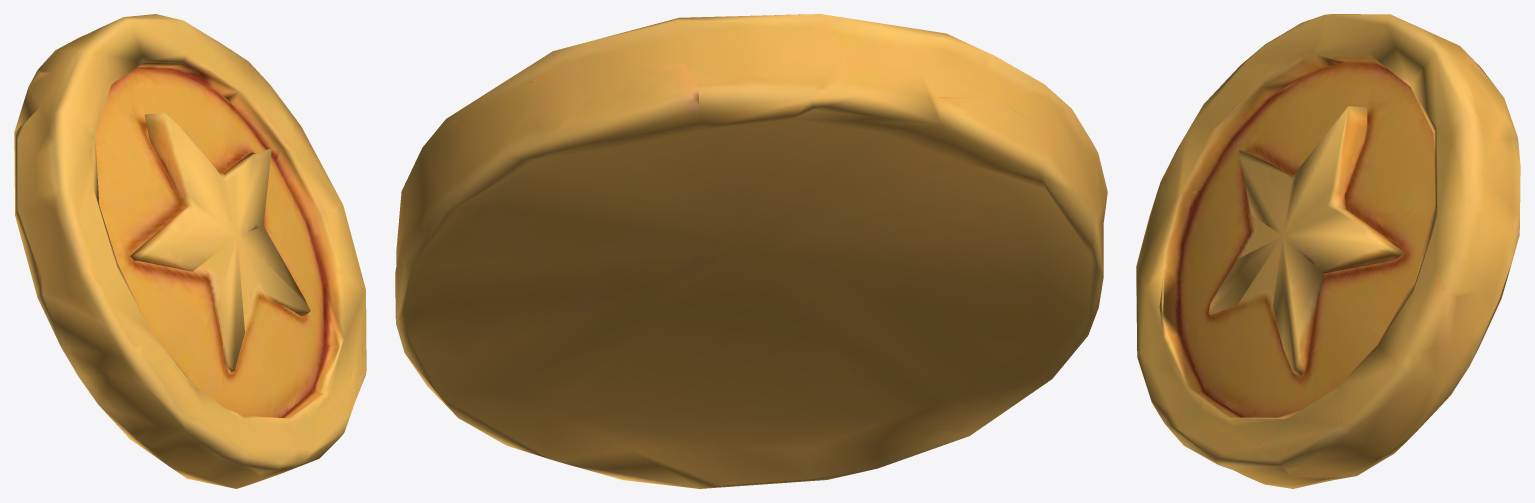
File: coin.glb
The picture shows the model from 3 angles, left to right: view 1: azimuth 30°, elevation 25°; view 2: azimuth 150°, elevation 25°; view 3: azimuth 270°, elevation 25°; orthographic projection. The views are drawn at different scales.
Visible parts, largest first — view 1: tripo_node_b1de6713-170c-4468-b979-ae119db5a0fa; view 2: tripo_node_b1de6713-170c-4468-b979-ae119db5a0fa; view 3: tripo_node_b1de6713-170c-4468-b979-ae119db5a0fa.
Boxes of the visible parts, left/top/right/bottom form: tripo_node_b1de6713-170c-4468-b979-ae119db5a0fa: left=14, top=14, right=366, bottom=488; tripo_node_b1de6713-170c-4468-b979-ae119db5a0fa: left=395, top=14, right=1107, bottom=488; tripo_node_b1de6713-170c-4468-b979-ae119db5a0fa: left=1136, top=14, right=1520, bottom=488.
Bounding box in the file's own units: 0.9941 × 0.9922 × 0.8711.
Materials: 1 (1 with a texture image).
